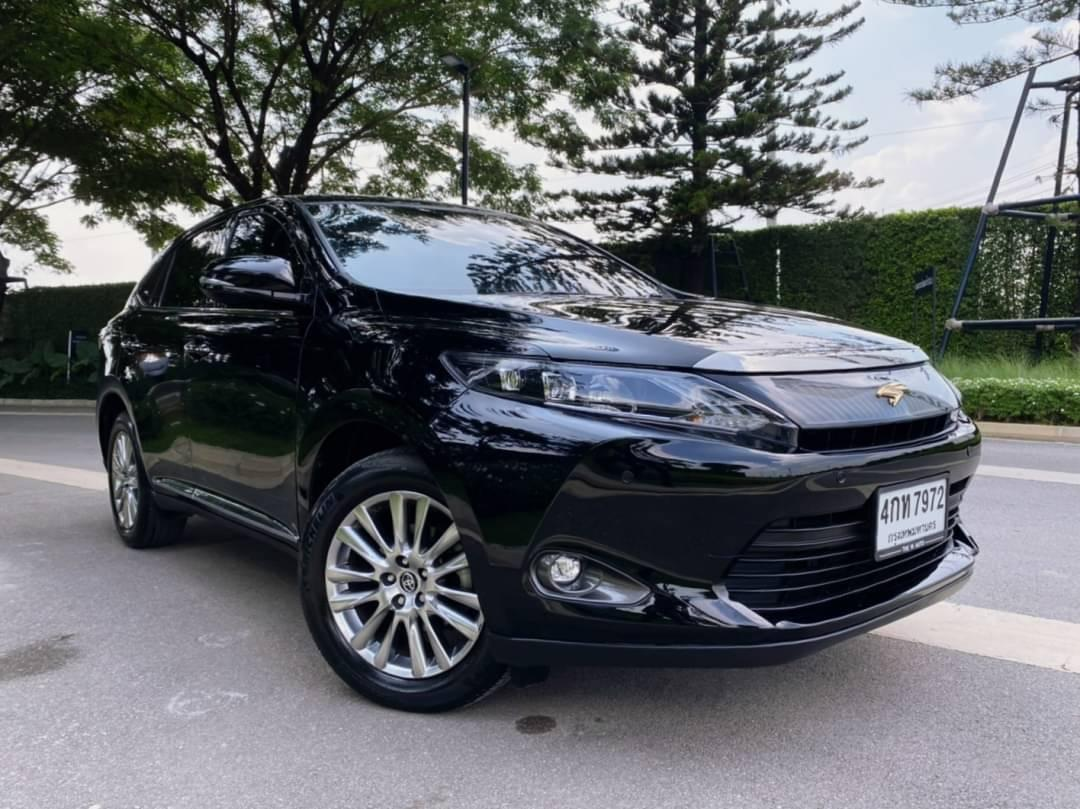license-plate: (867, 468, 954, 560)
